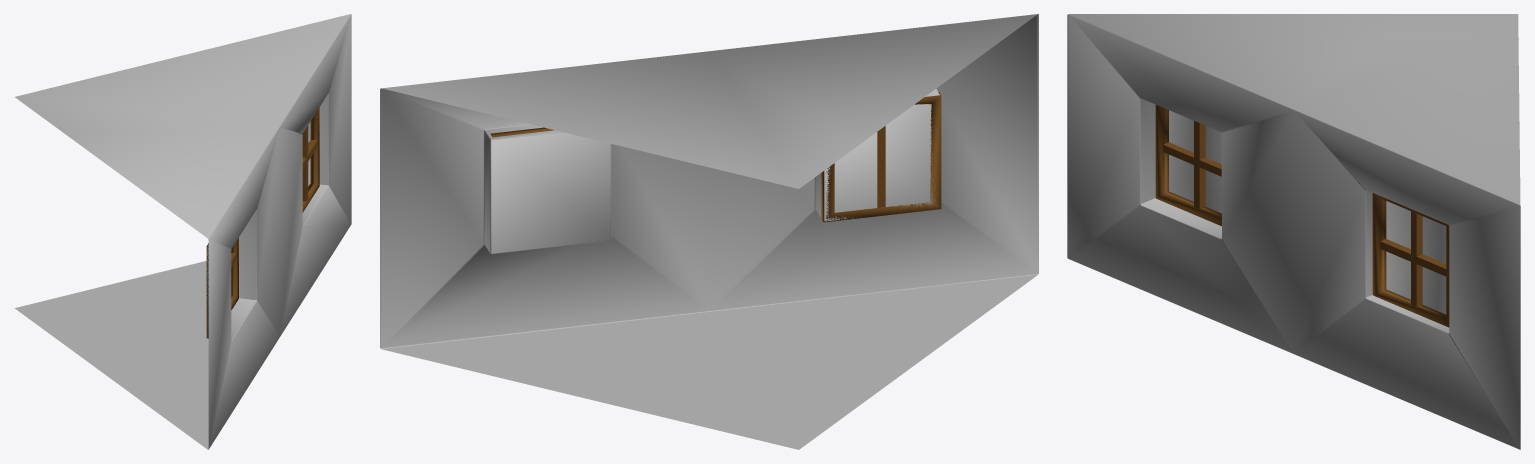
File: A_Bloc_5.fbx
3 views of the same model, side by side, from view 1: azimuth 30°, elevation 25°; view 2: azimuth 150°, elevation 25°; view 3: azimuth 270°, elevation 25° (orthographic). The views are drawn at different scales.
Visible parts, largest first — view 1: Wall.008, Window_2.007, Window_1.006; view 2: Wall.008, Window_1.006; view 3: Wall.008, Window_2.007, Window_1.006.
Part boxes in pixels (x1,y1,x2,y2): Wall.008: [14, 14, 351, 449]; Window_2.007: [302, 107, 319, 212]; Window_1.006: [206, 237, 238, 338]; Wall.008: [380, 14, 1038, 449]; Window_1.006: [821, 92, 941, 222]; Wall.008: [1067, 14, 1520, 449]; Window_2.007: [1372, 193, 1449, 327]; Window_1.006: [1155, 105, 1221, 226].
Bounding box in the file's own units: 498 × 297 × 498.
